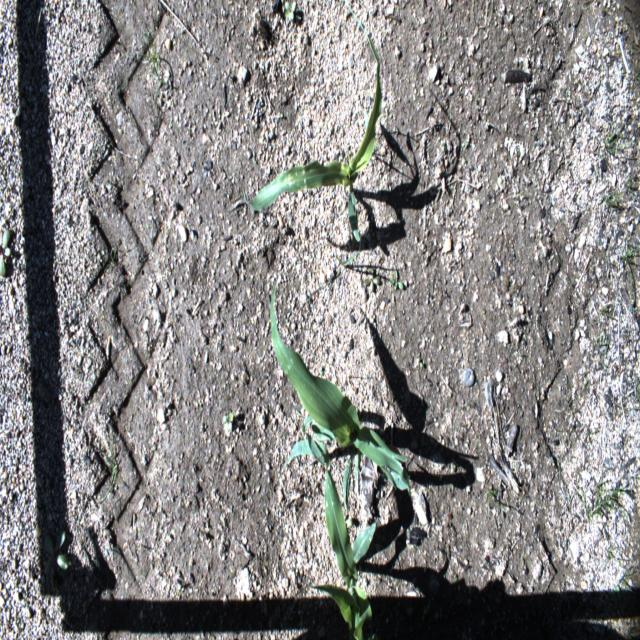crop: (243, 4, 382, 242), (270, 276, 411, 510), (309, 469, 377, 639)
weed: (304, 235, 362, 311), (588, 477, 632, 542), (130, 30, 170, 100), (599, 118, 633, 168), (620, 236, 640, 315), (41, 527, 70, 576), (98, 446, 119, 506), (482, 481, 507, 520), (0, 228, 12, 277), (620, 568, 638, 596), (604, 544, 625, 567), (362, 267, 380, 293), (624, 174, 640, 199), (590, 331, 610, 350), (604, 190, 624, 208), (104, 246, 117, 273), (599, 342, 611, 369), (388, 270, 404, 290), (569, 483, 585, 503), (631, 376, 640, 411), (223, 410, 234, 436), (363, 109, 372, 139), (284, 1, 296, 20), (579, 498, 590, 518), (339, 513, 353, 528), (600, 306, 616, 319), (634, 64, 640, 89), (233, 426, 242, 442), (611, 585, 619, 602), (450, 460, 458, 476), (515, 189, 524, 202), (416, 356, 424, 370), (556, 459, 562, 475), (461, 139, 469, 149), (450, 574, 458, 584), (440, 140, 445, 153), (561, 336, 567, 346), (564, 373, 569, 384), (277, 110, 283, 119), (251, 157, 257, 166), (319, 364, 323, 376)
